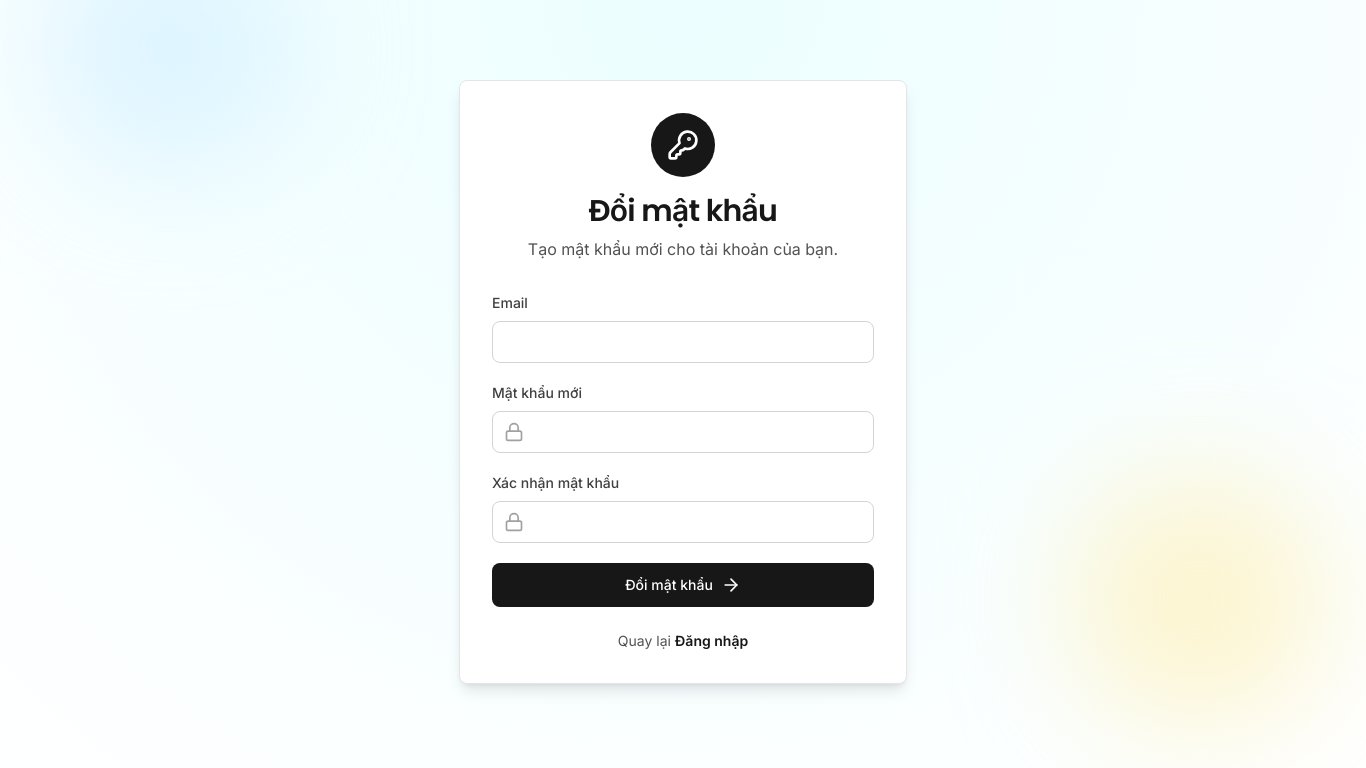
Test case: ResetPasswordPage › hien thi loi khi thieu email hoac otp
Type "12345" into the 1st password field at (683, 432), box [492, 411, 874, 453]
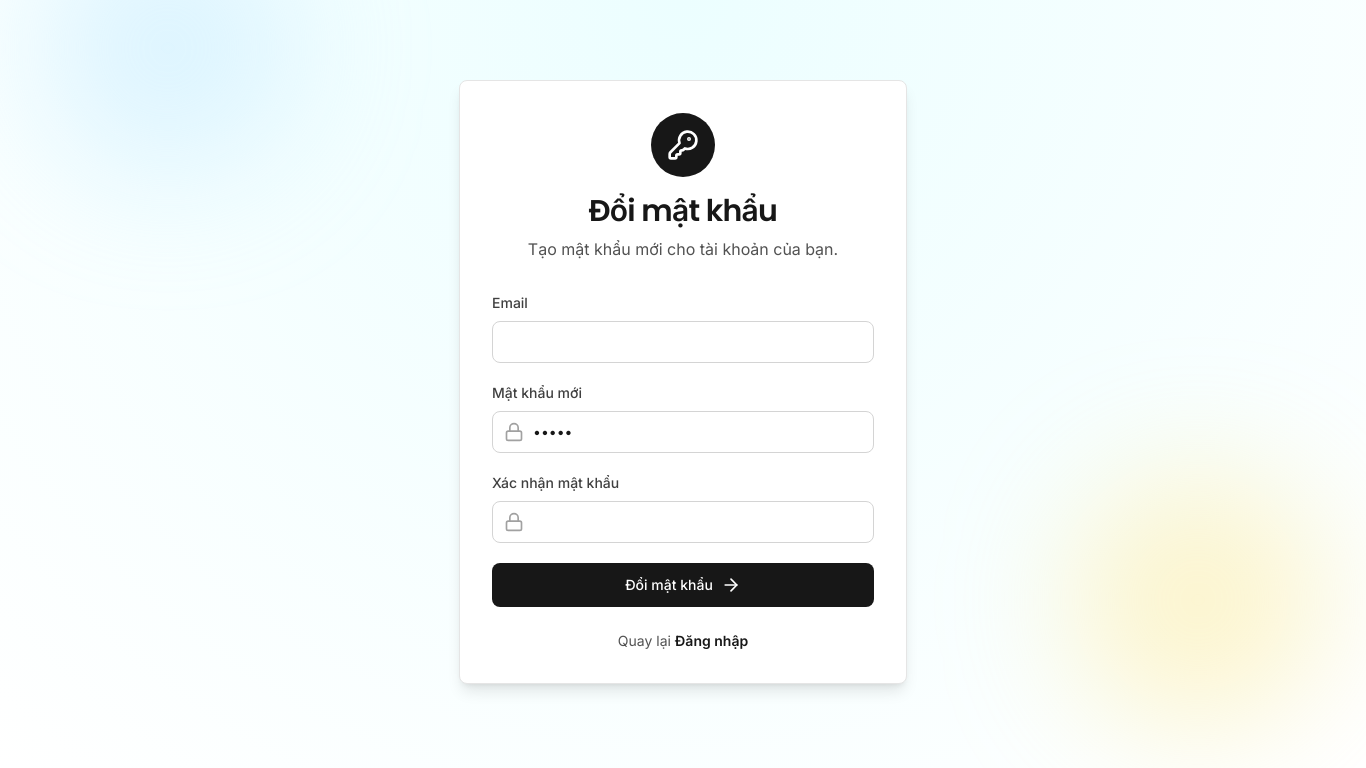
Type "12345" into the password field below "Xác nhận mật khẩu" at (683, 522), box [492, 501, 874, 543]
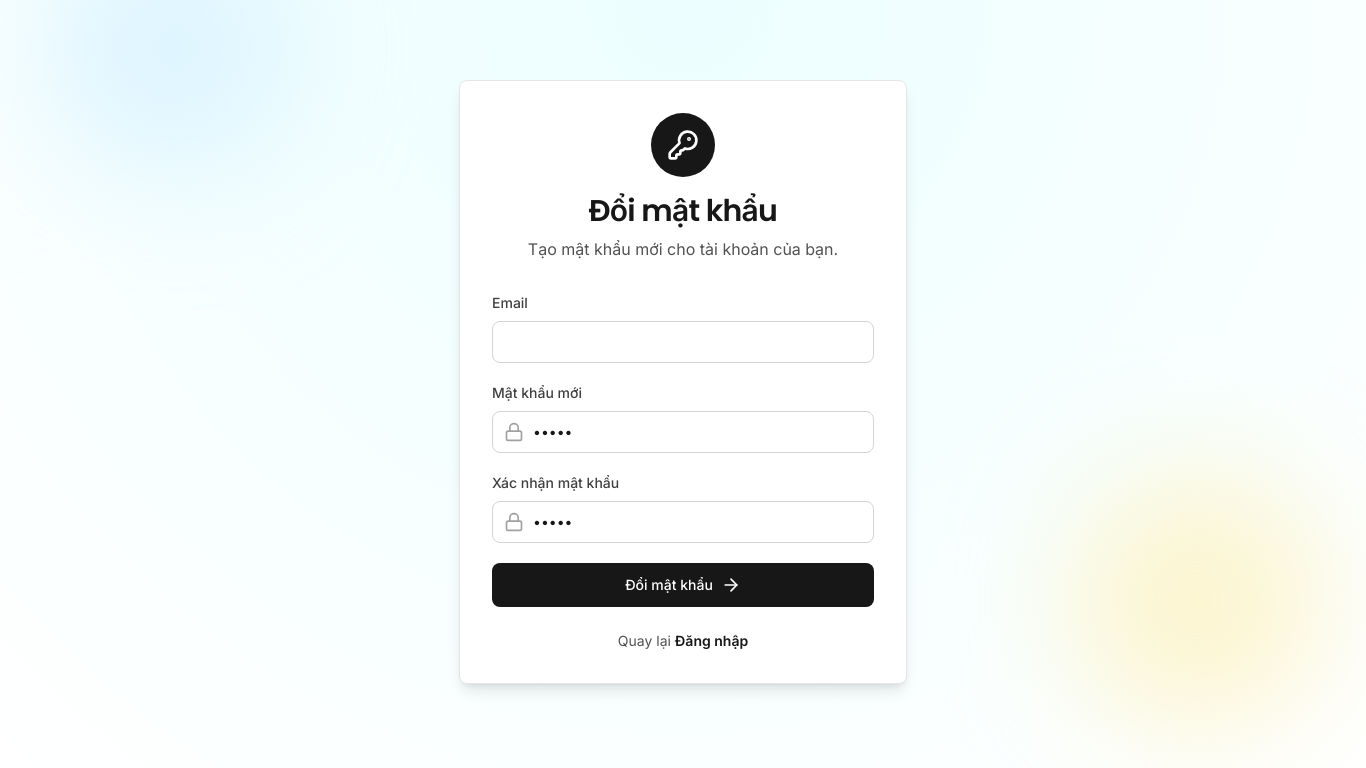
Click the submit button at (683, 585), box [492, 563, 874, 607]
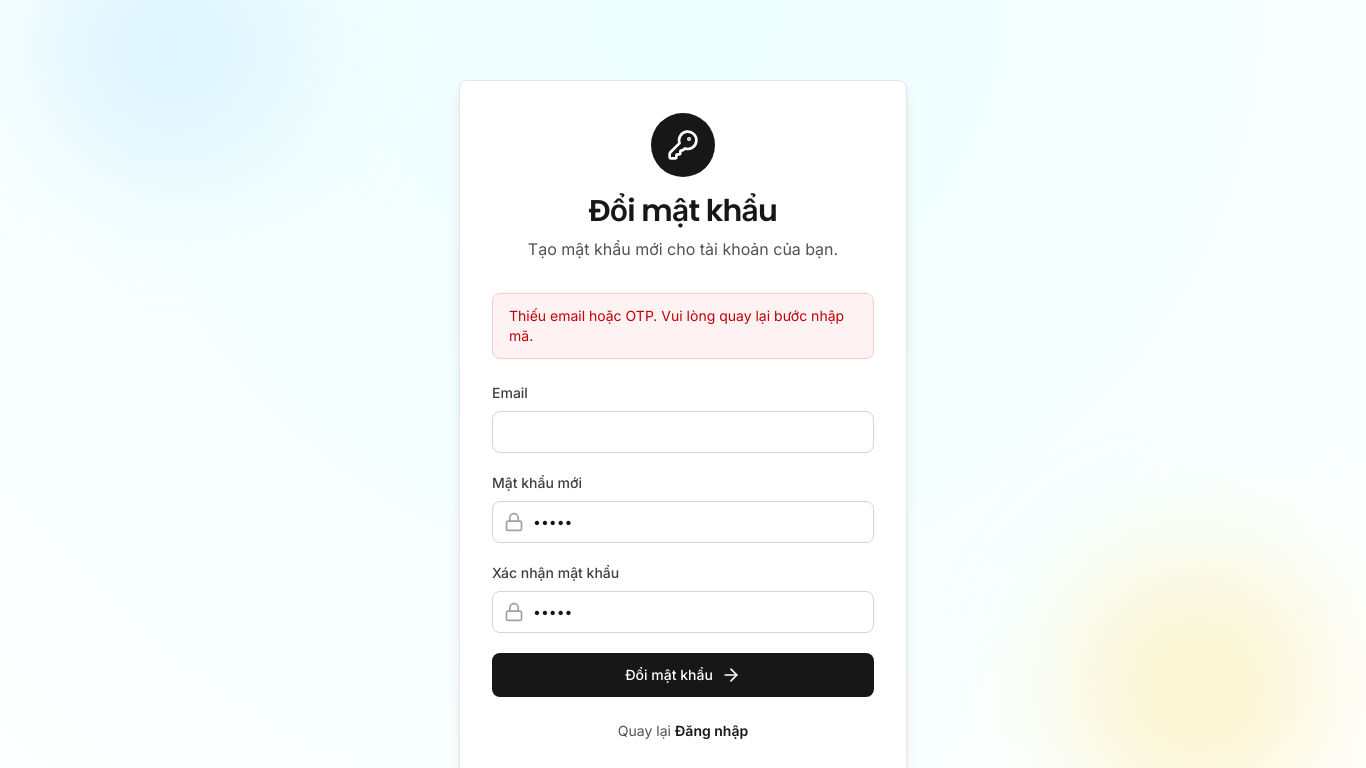
Result: the text "Thiếu email hoặc OTP. Vui lòng quay lại bước nhập mã." is shown at [492, 293, 874, 359]
